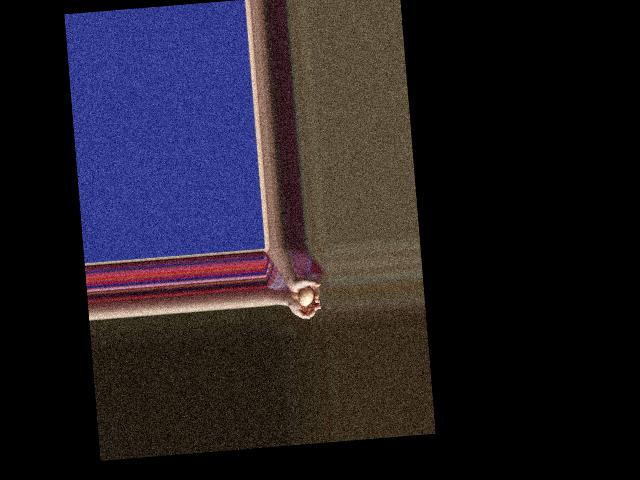egg: (298, 286, 315, 306)
